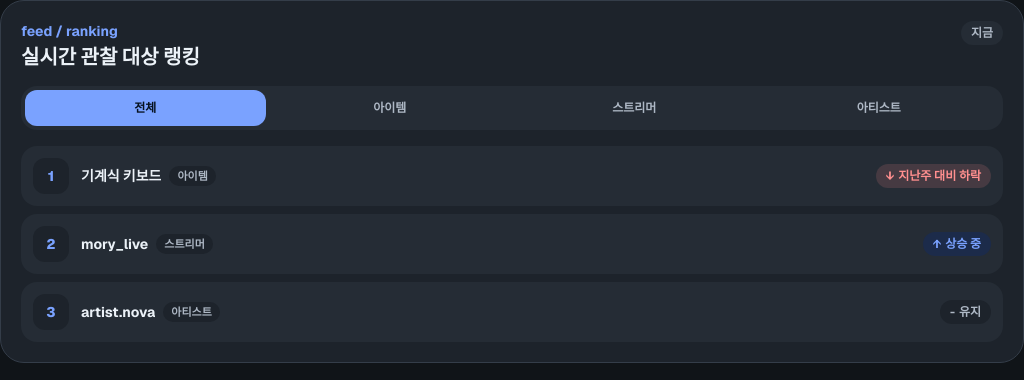
Test case: PopularTargetSection › 아이템 탭에서는 해당 종류의 대상만 보여준다
해당 종류 탭을 클릭한다
Click the tab "아이템": (390, 108) [270,90,510,126]
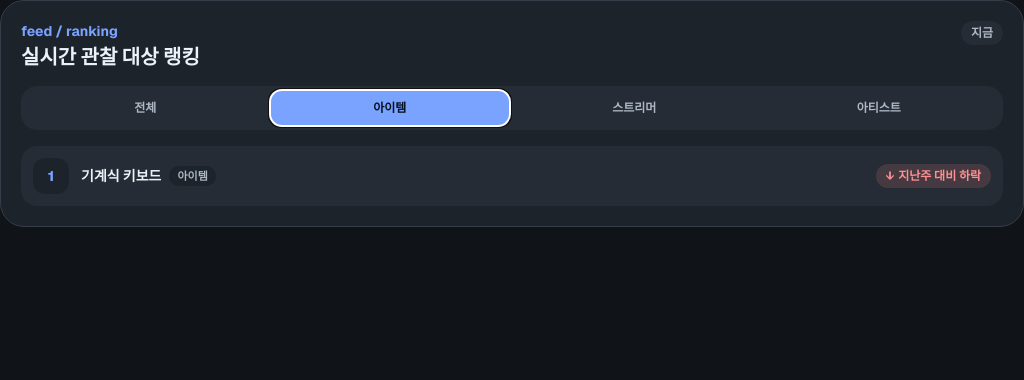
Expected: the text "기계식 키보드" is shown, [81,166,162,186]
Now the number of links is 1, box [21,146,1003,206]
